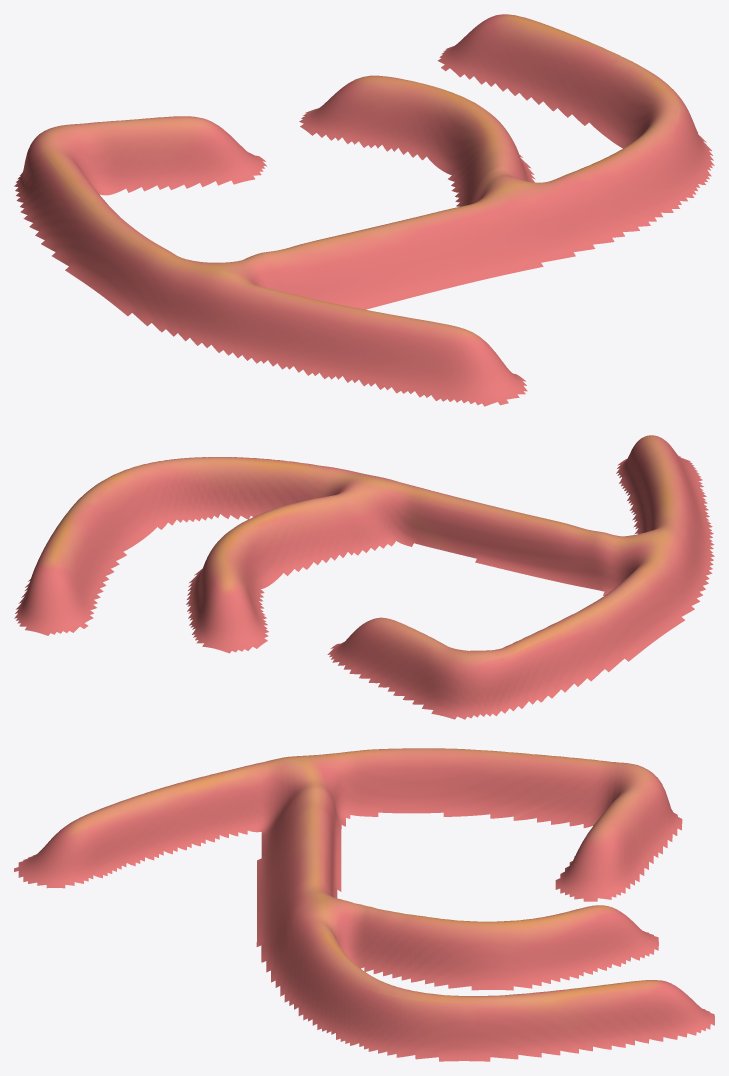
Rendered from cave_gliph_1.fbx.
3 renders of one model, top to bottom at view 1: azimuth 30°, elevation 25°; view 2: azimuth 150°, elevation 25°; view 3: azimuth 270°, elevation 25°, orthographic. The views are drawn at different scales.
Parts seen in each view (by area): view 1: Plane; view 2: Plane; view 3: Plane.
Boxes of the visible parts, box(x1,y1,x2,y2) form: Plane: box(14, 14, 714, 406); Plane: box(14, 435, 714, 719); Plane: box(14, 748, 714, 1061).
Bounding box in the file's own units: 141 × 12.25 × 150.
Materials: 1 (1 with a texture image).
